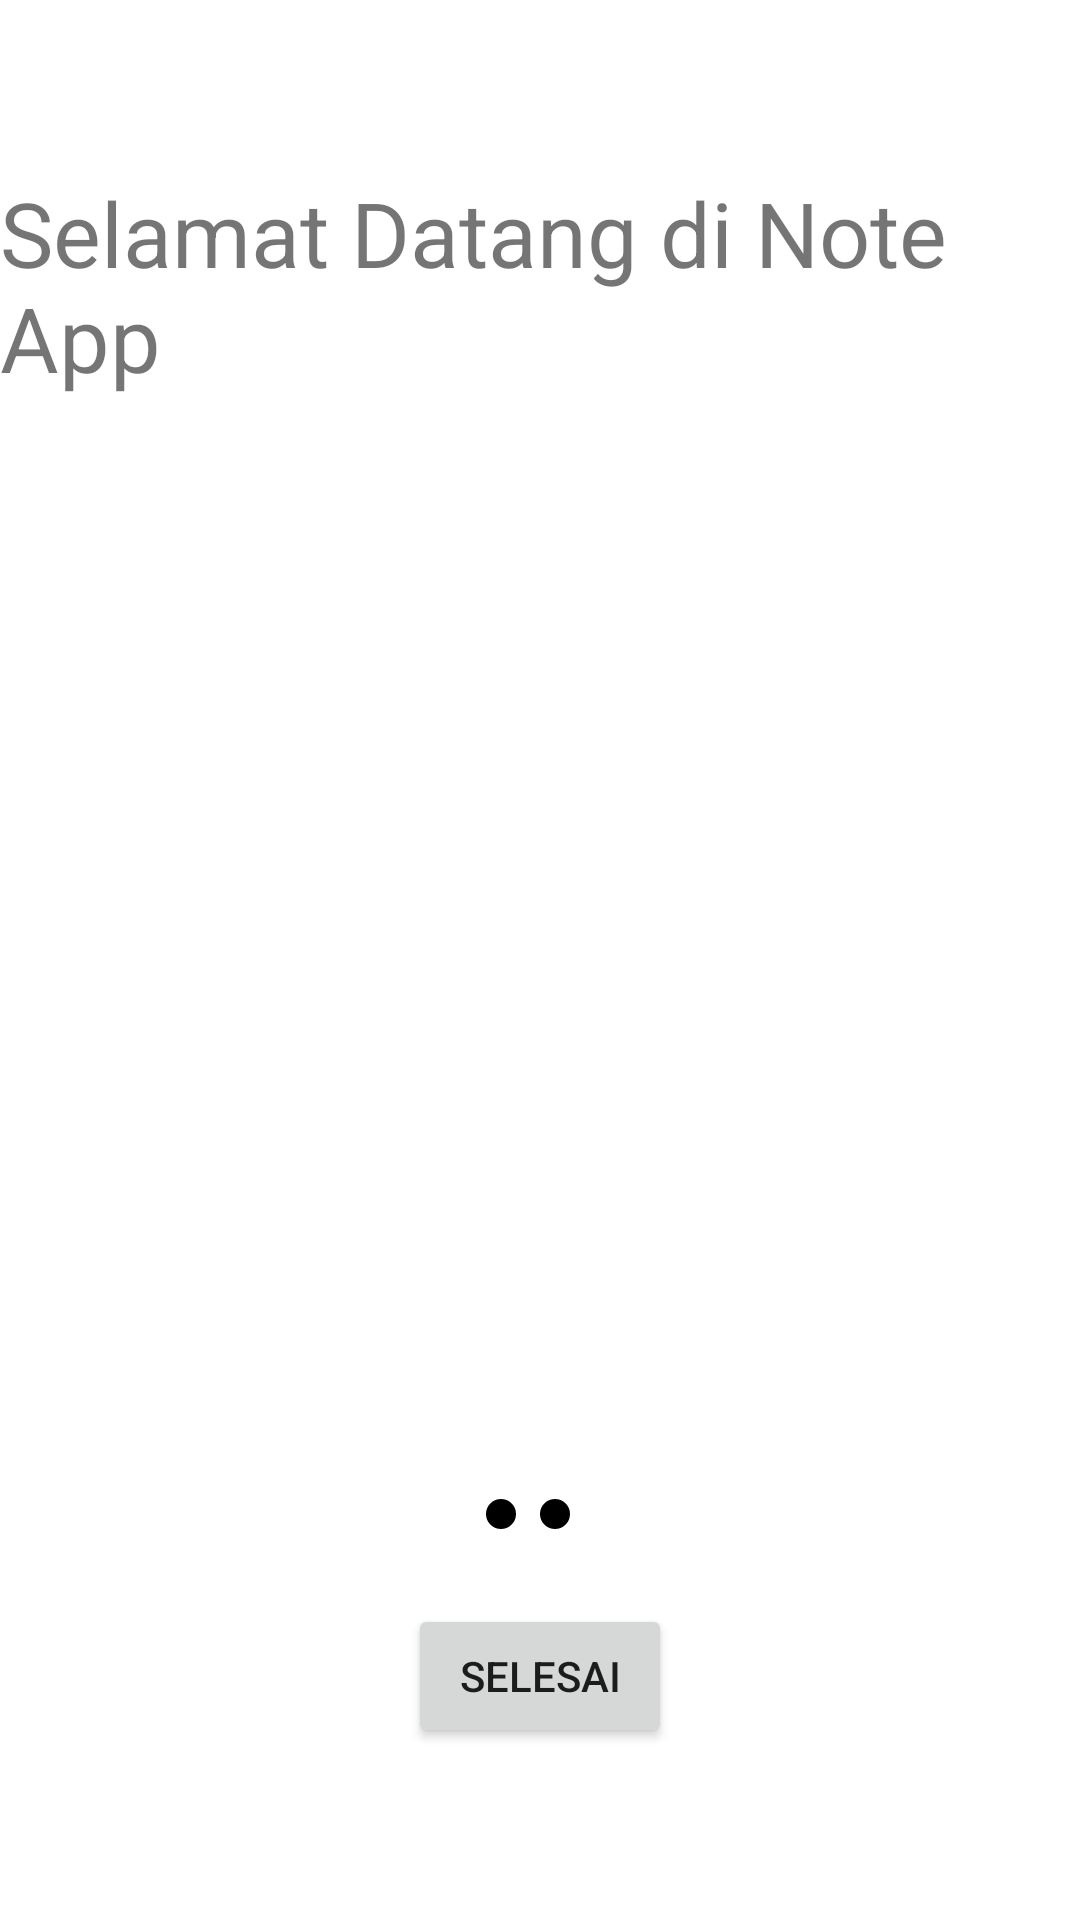

Named icons in this screenshot (1080w x 1920h) and their centers, (x=x, y=y):
dot select: (x=501, y=1514), (x=555, y=1514)
